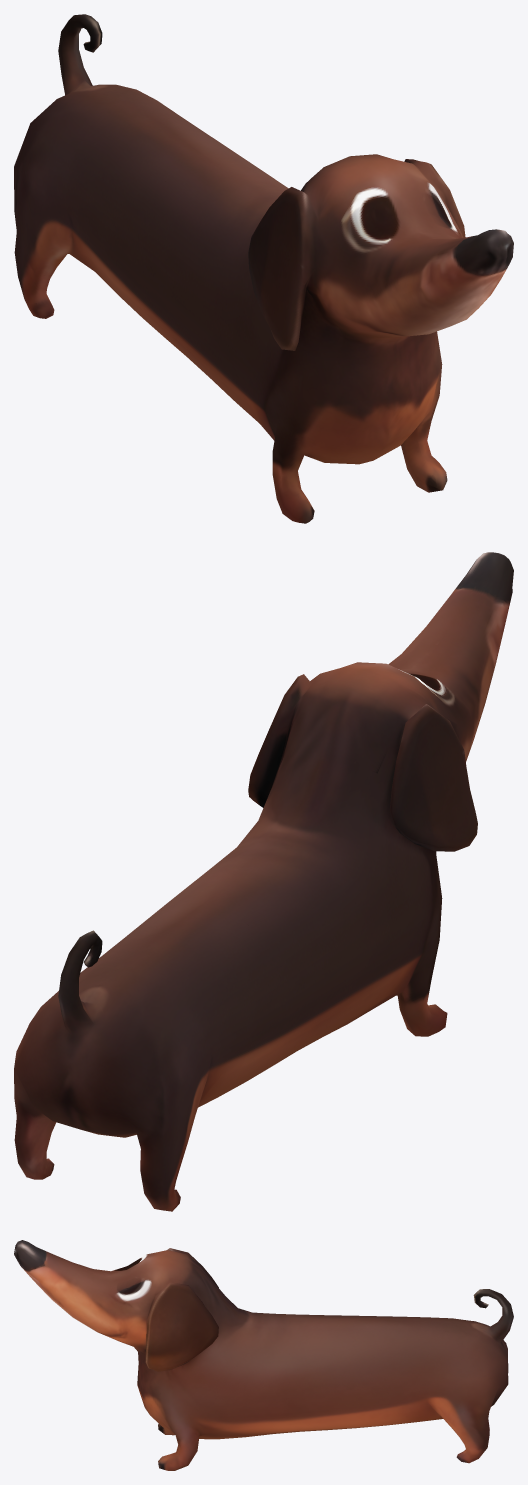
Rendered from base_basic_shaded.fbx.
The picture shows the model from 3 angles, top to bottom: view 1: azimuth 30°, elevation 25°; view 2: azimuth 150°, elevation 25°; view 3: azimuth 270°, elevation 25°; orthographic projection. The views are drawn at different scales.
Parts seen in each view (by area): view 1: model; view 2: model; view 3: model.
Part boxes in pixels (bbox=[...]): model: bbox=[14, 14, 513, 523]; model: bbox=[14, 552, 513, 1211]; model: bbox=[14, 1240, 513, 1470].
Size of the model in its own units: 43.17 by 80.53 by 173.
